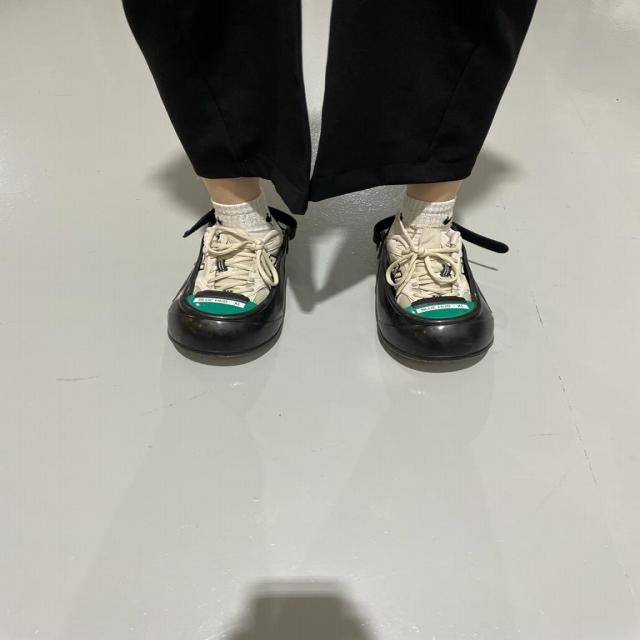shoes: (159, 199, 299, 365), (365, 210, 504, 377)
